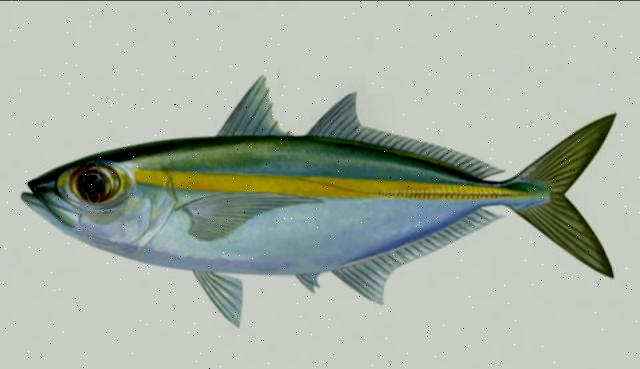Mulut: (14, 166, 62, 232)
Sirip Anal: (340, 201, 500, 313)
Sirip Dada: (178, 182, 326, 246)
Sirip Ekor: (507, 96, 633, 288)
Sirip Perut: (192, 264, 248, 332)
Sirip Punggung: (214, 69, 508, 175)
